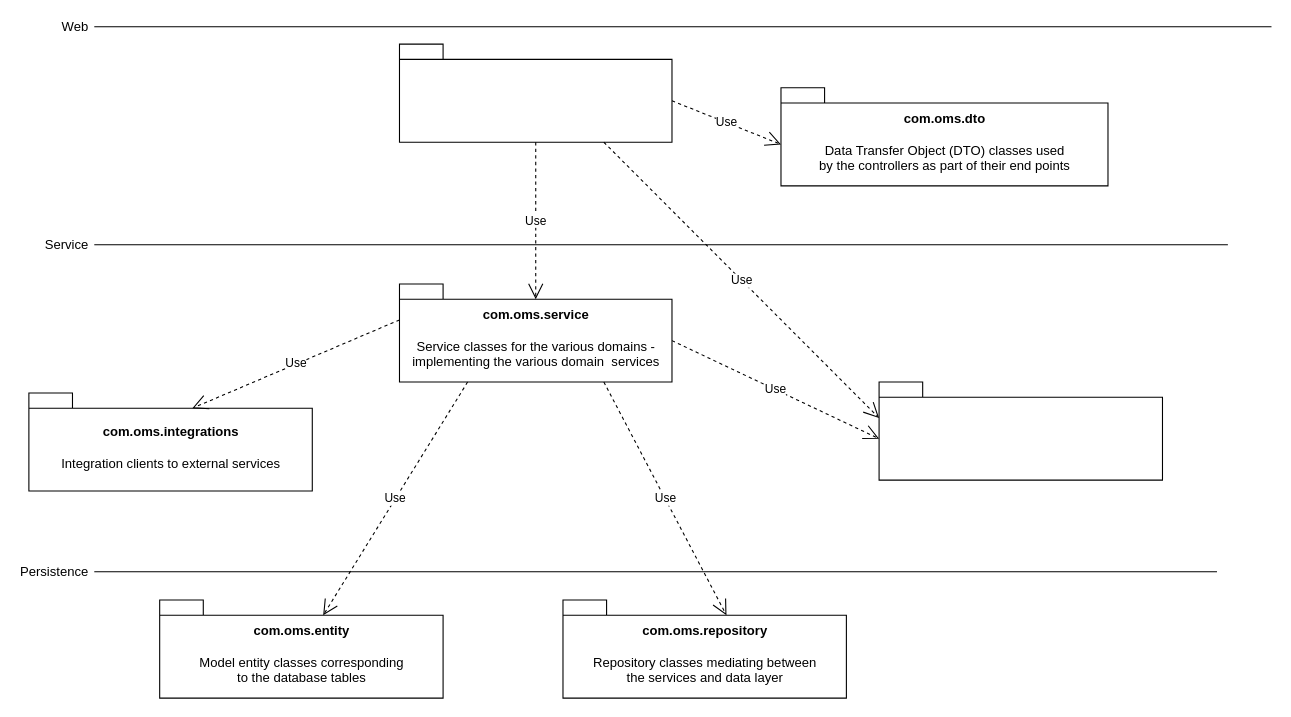
This 1291x717 diagram has some shape labels left out. Each missing label, with the box of its shape:
com.oms.controller Controller classes for the various domains: (398, 43, 672, 142)
com.oms.util Utility classes (e.g. Logger): (878, 381, 1162, 480)
